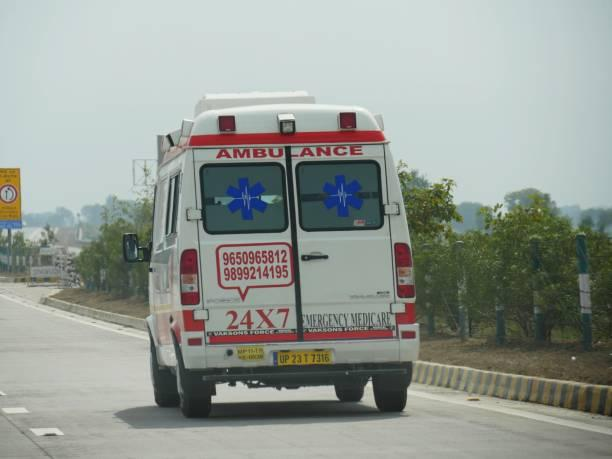ambulance: (143, 101, 433, 388)
